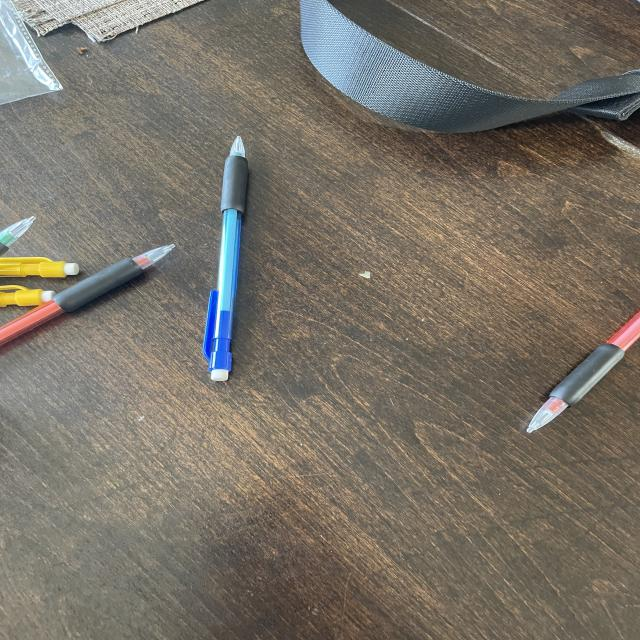mechanical-pencils: (5, 231, 185, 354), (511, 307, 640, 449), (197, 134, 257, 389), (2, 258, 87, 284), (4, 211, 43, 255), (9, 289, 61, 311)
